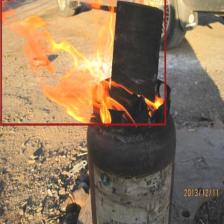fire: (0, 0, 166, 125)
